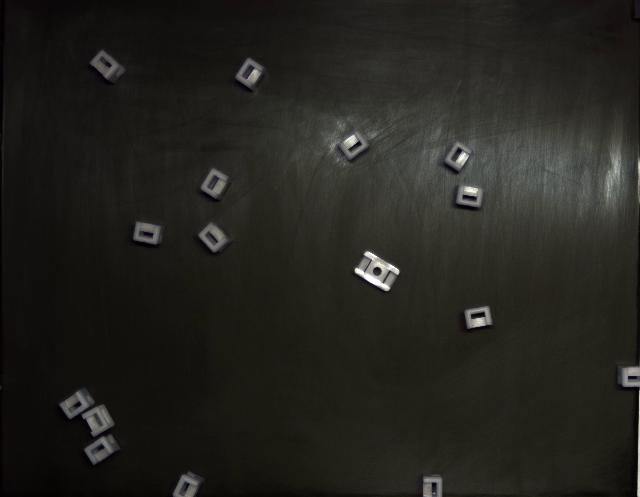fourth_side: (59, 389, 115, 438), (90, 50, 125, 84), (59, 389, 95, 420), (235, 58, 268, 91), (84, 435, 120, 465), (199, 222, 232, 253), (200, 169, 231, 200), (339, 131, 369, 160), (445, 141, 472, 172), (132, 221, 164, 245), (464, 306, 492, 330), (456, 185, 484, 208)
second_side: (354, 251, 400, 291)
